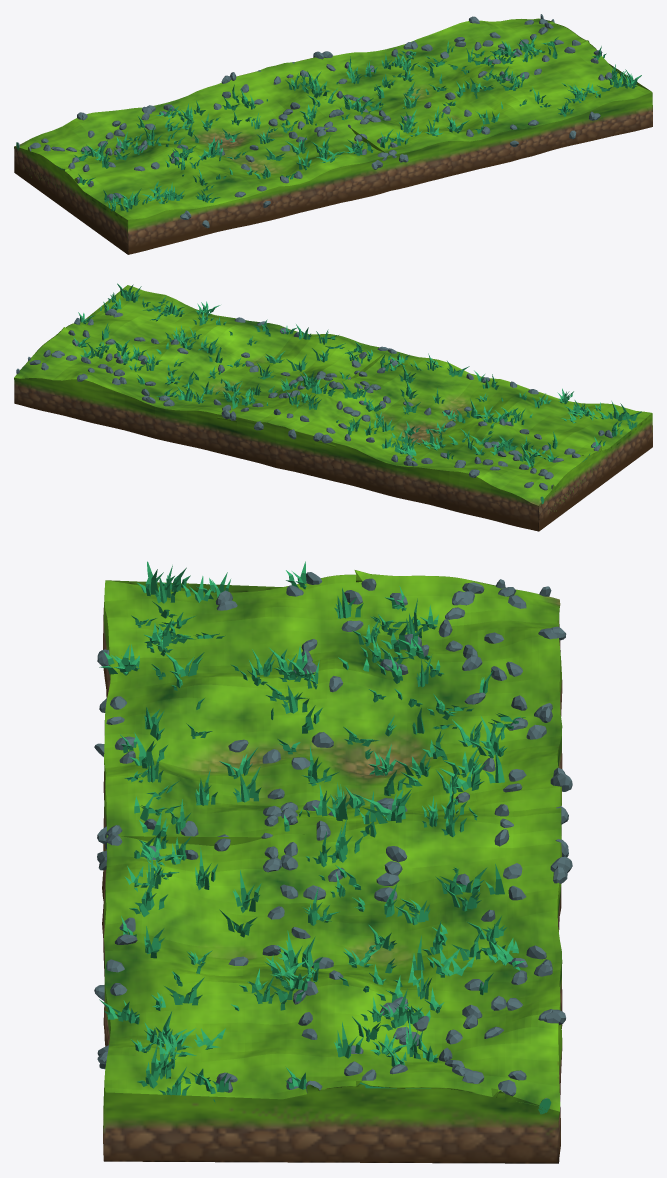
Rendered from re_upper_long2.fbx.
3 views of the same model, one above another, from view 1: azimuth 30°, elevation 25°; view 2: azimuth 150°, elevation 25°; view 3: azimuth 270°, elevation 25° (orthographic). The views are drawn at different scales.
Parts seen in each view (by area): view 1: middle_symm; view 2: middle_symm; view 3: middle_symm.
Part boxes in pixels (x1,y1,x2,y2): middle_symm: [14, 14, 652, 254]; middle_symm: [14, 283, 652, 531]; middle_symm: [94, 561, 572, 1163].
Size of the model in its own units: 1600 by 170 by 632.
